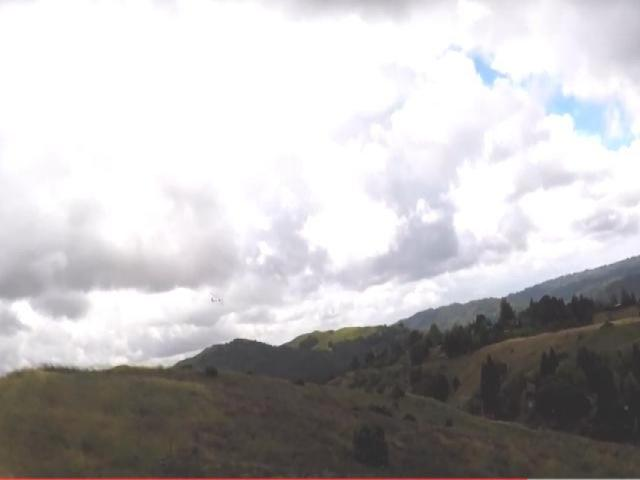iha: (206, 291, 224, 308)
